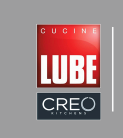creo: (35, 92, 102, 121)
lube: (34, 23, 102, 89)
